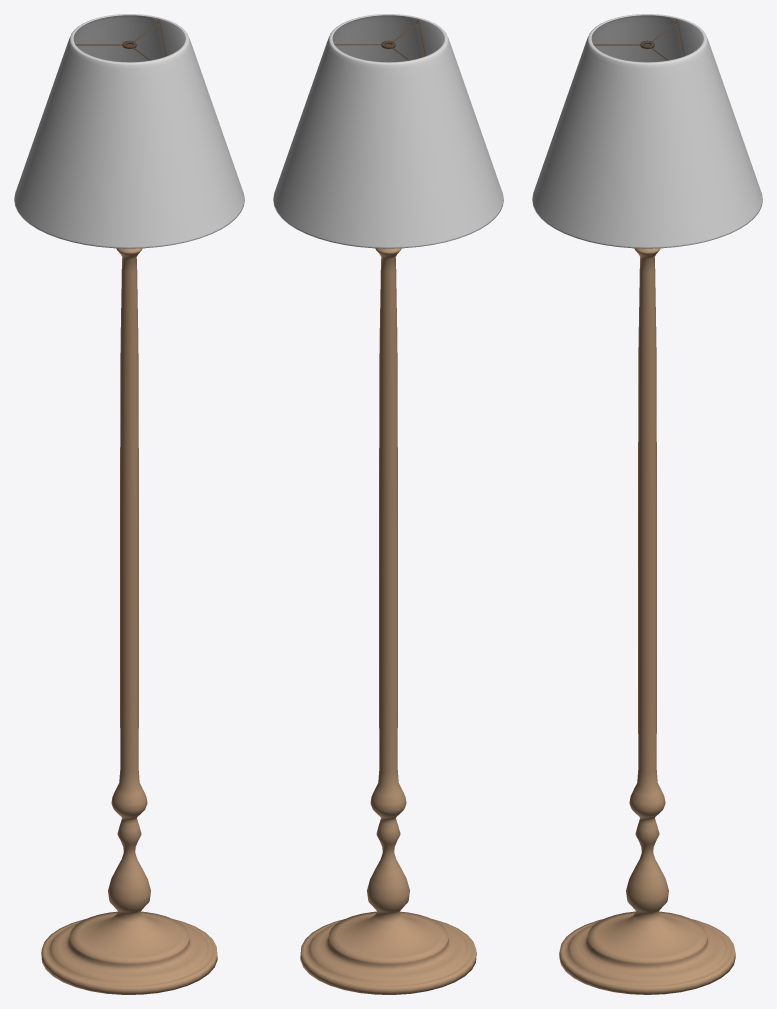
Rendered from Floor Lamp.fbx.
The picture shows the model from 3 angles, left to right: view 1: azimuth 30°, elevation 25°; view 2: azimuth 150°, elevation 25°; view 3: azimuth 270°, elevation 25°; orthographic projection.
Parts seen in each view (by area): view 1: Lamp Top, Lamp Stand; view 2: Lamp Top, Lamp Stand; view 3: Lamp Top, Lamp Stand.
Boxes of the visible parts, left/top/right/bottom form: Lamp Top: left=14, top=14, right=244, bottom=248; Lamp Stand: left=41, top=248, right=217, bottom=994; Lamp Top: left=273, top=14, right=503, bottom=248; Lamp Stand: left=300, top=248, right=476, bottom=994; Lamp Top: left=532, top=14, right=762, bottom=248; Lamp Stand: left=559, top=248, right=735, bottom=994.
Size of the model in its own units: 35.58 by 156 by 35.58.
